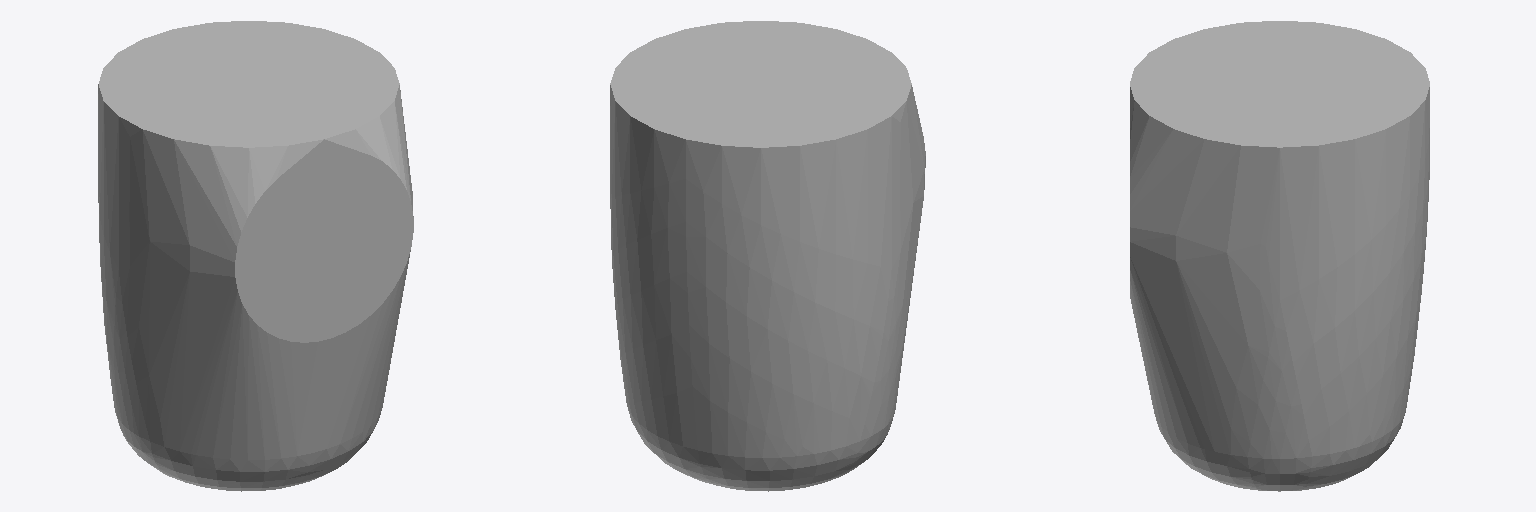
The robot description file, URDF, robot "root":
<?xml version='1.0' encoding='utf-8'?>
<robot name="root">
  <link name="link_001">
    <visual>
      <origin xyz="0 0 0" rpy="0 0 0" />
      <geometry>
        <mesh filename="6c230b3affb61f6913d92dcc4f43387086cf546046a827b65b4e26af573e36d2_scale_000.stl" scale="1.0000E+00 1.0000E+00 1.0000E+00" />
      </geometry>
      <material name="">
        <color rgba="7.50E-01 7.50E-01 7.50E-01 1" />
      </material>
    </visual>
    <collision>
      <origin xyz="0 0 0" rpy="0 0 0" />
      <geometry>
        <mesh filename="6c230b3affb61f6913d92dcc4f43387086cf546046a827b65b4e26af573e36d2_scale_000.stl" scale="1.0000E+00 1.0000E+00 1.0000E+00" />
      </geometry>
    </collision>
  </link>
</robot>

--- What the picture shows (computed from the rendered views, not written in the file) ---
Views: 3 orthographic renders of the robot side by side, from view 1: azimuth 30°, elevation 25°; view 2: azimuth 150°, elevation 25°; view 3: azimuth 270°, elevation 25°.
Robot: root — 1 links, 0 joints (none); root link link_001; default pose: every joint at zero.
Visible links, largest first — view 1: link_001; view 2: link_001; view 3: link_001.
Link boxes in pixels (x1=…): link_001: x1=98, y1=21, x2=413, y2=491; link_001: x1=610, y1=21, x2=925, y2=491; link_001: x1=1130, y1=21, x2=1429, y2=491.
Size in the robot's own frame: 0.0855 by 0.0855 by 0.12 metres.
1 mesh visuals loaded from 1 distinct referenced files (1 binary STL).
